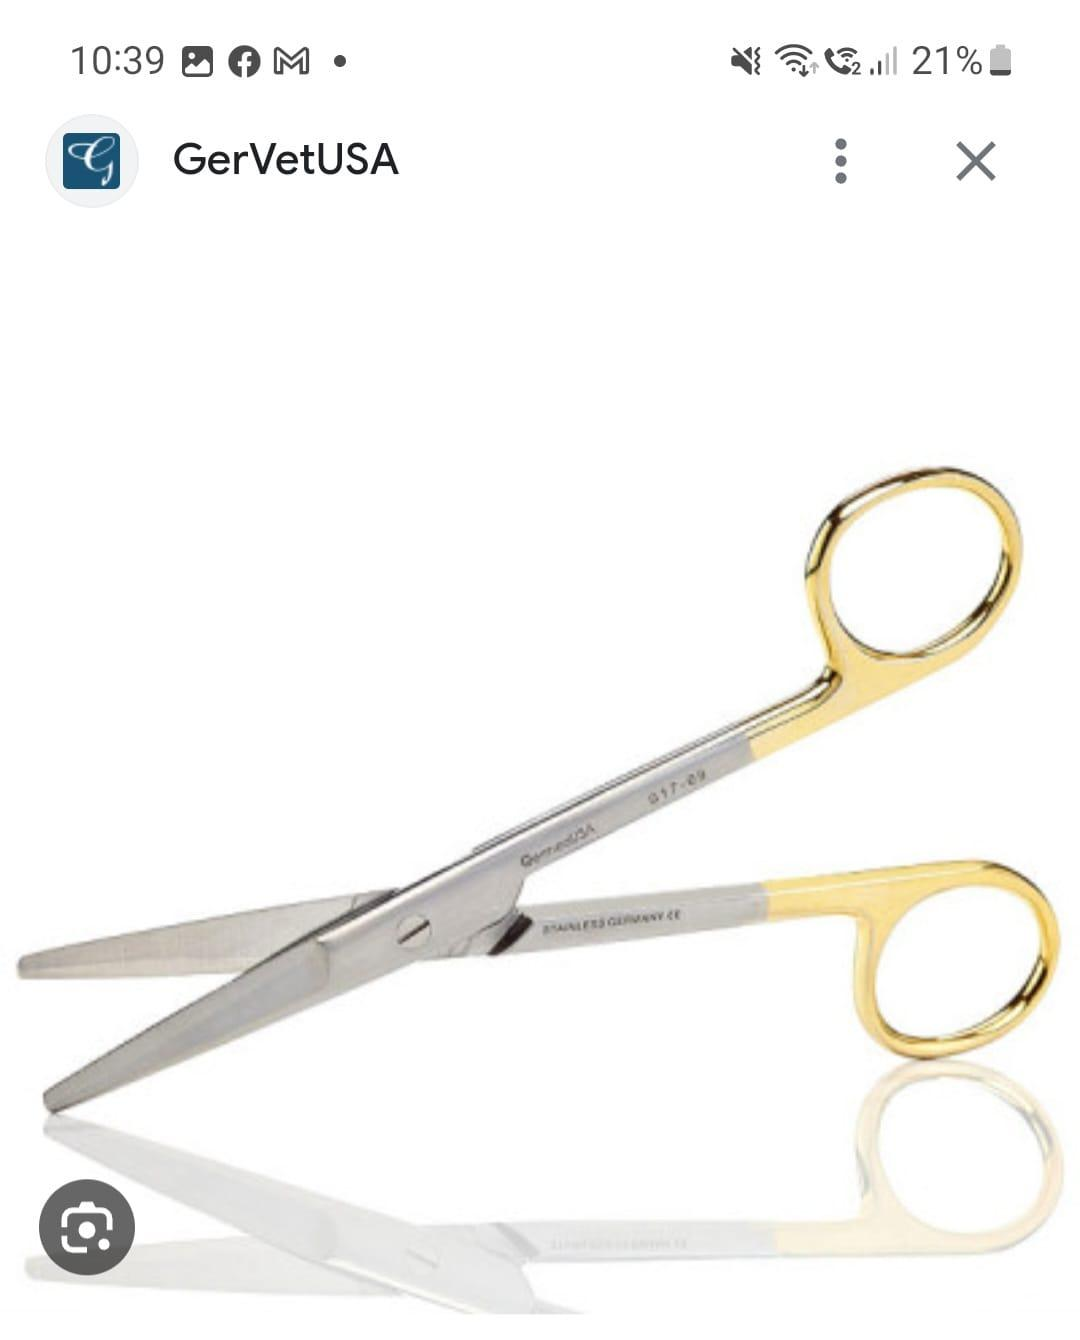Straight Mayo: (20, 450, 1076, 1126)
